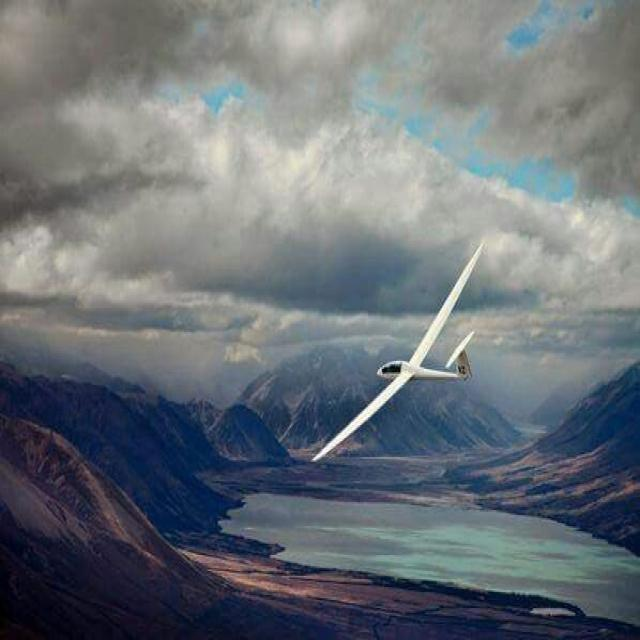iha: (307, 236, 487, 465)
